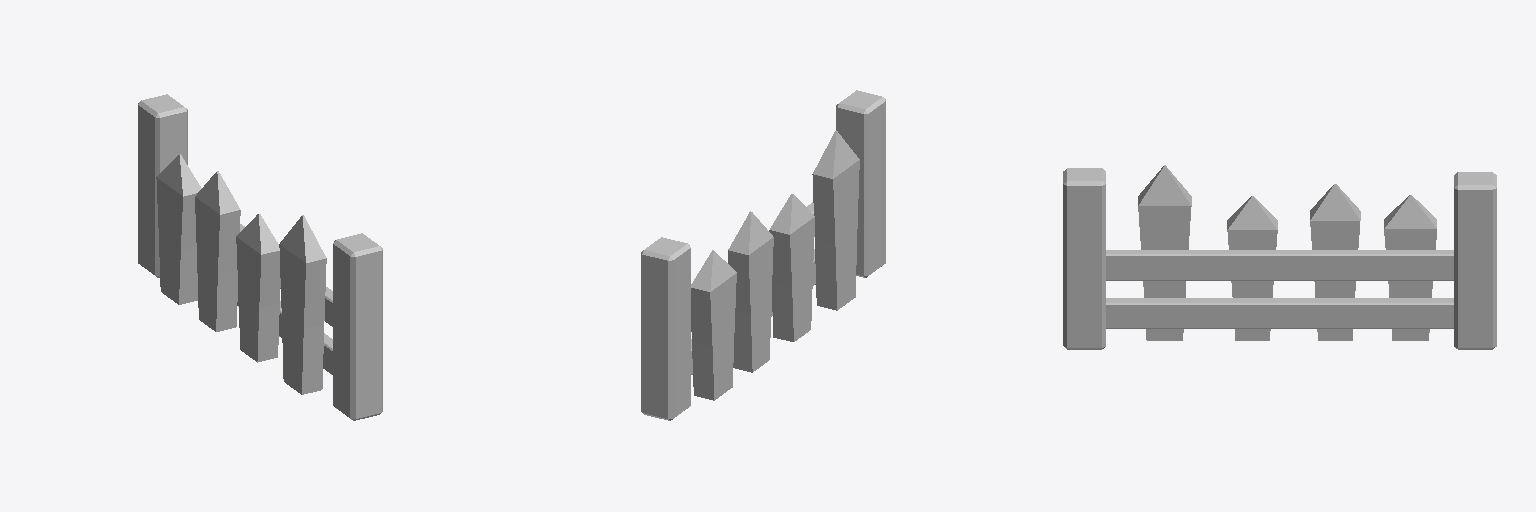
Rendered from fence.obj.
3 views of the same model, side by side, from view 1: azimuth 30°, elevation 25°; view 2: azimuth 150°, elevation 25°; view 3: azimuth 270°, elevation 25° (orthographic).
Parts seen in each view (by area): view 1: pCube9; view 2: pCube9; view 3: pCube9.
Part boxes in pixels (x1,y1,x2,y2): pCube9: (138, 94, 382, 420); pCube9: (641, 90, 885, 420); pCube9: (1063, 165, 1496, 349).
Bounding box in the file's own units: 0.9879 × 3.85 × 8.87.